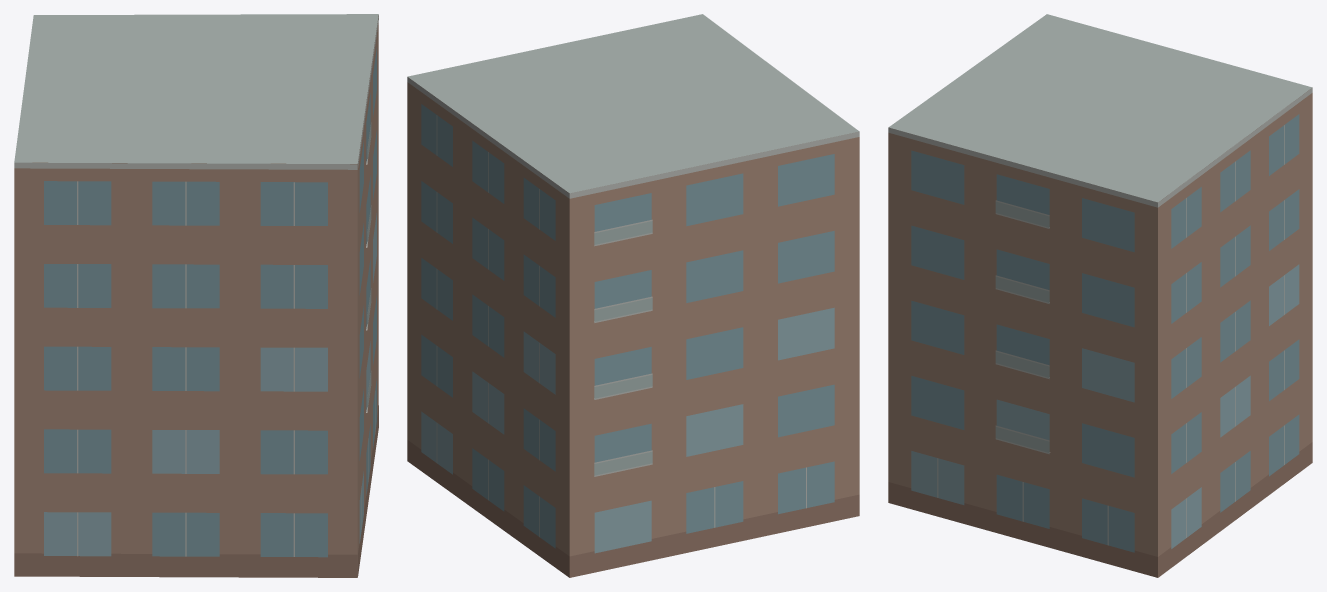
File: survey-upis-32487058.glb
3 views of the same model, side by side, from view 1: azimuth 30°, elevation 25°; view 2: azimuth 150°, elevation 25°; view 3: azimuth 270°, elevation 25° (orthographic). The views are drawn at different scales.
Parts seen in each view (by area): view 1: survey-upis-32487058.tmp; view 2: survey-upis-32487058.tmp; view 3: survey-upis-32487058.tmp.
Boxes of the visible parts, x1,y1,x2,y2 form: survey-upis-32487058.tmp: (14,14,378,577); survey-upis-32487058.tmp: (407,14,859,577); survey-upis-32487058.tmp: (888,14,1312,577).
Size of the model in its own units: 18.85 by 17.5 by 17.92.
